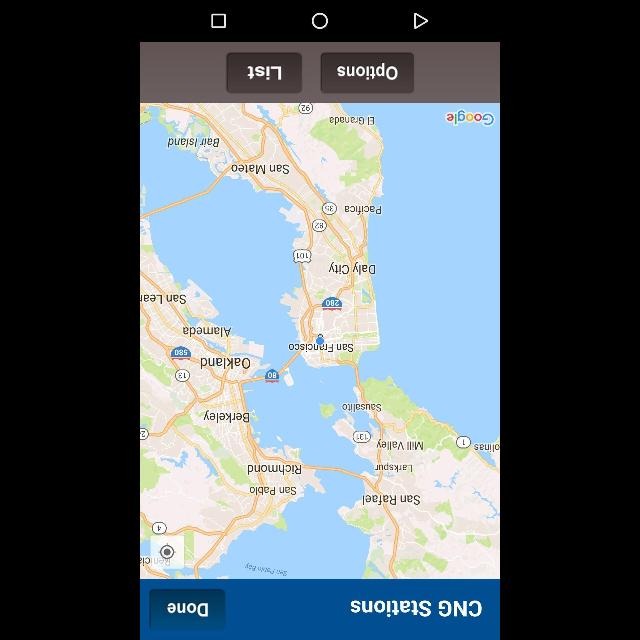icon: (157, 542, 177, 562), (210, 12, 228, 32), (412, 11, 430, 29), (311, 12, 329, 30)
map: (140, 103, 500, 582)
panel: (140, 41, 500, 100), (140, 581, 500, 639)
text: (347, 595, 488, 621), (337, 62, 398, 80), (248, 66, 282, 80)
textbutton: (318, 51, 414, 95), (148, 590, 225, 634), (224, 52, 304, 94)
